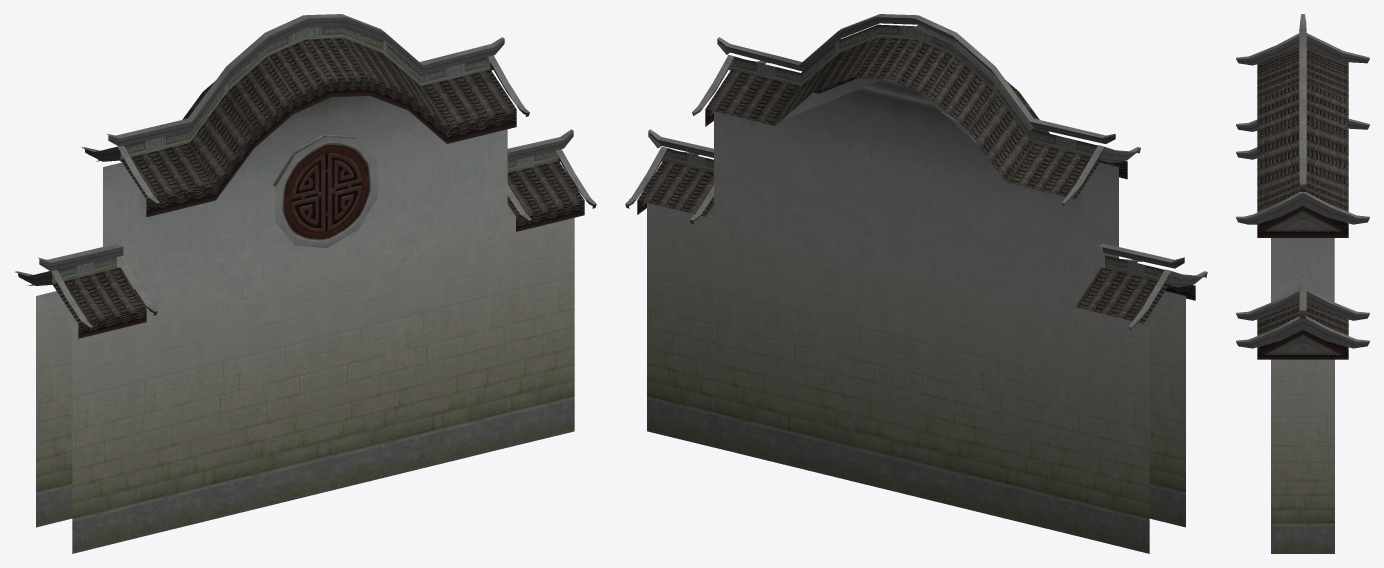
File: zc_suzhou_zhujian09.FBX
3 views of the same model, side by side, from view 1: azimuth 30°, elevation 25°; view 2: azimuth 150°, elevation 25°; view 3: azimuth 270°, elevation 25° (orthographic). The views are drawn at different scales.
Visible parts, largest first — view 1: zc_suzhou_zhujian09; view 2: zc_suzhou_zhujian09; view 3: zc_suzhou_zhujian09.
Boxes of the visible parts, box(x1,y1,x2,y2) form: zc_suzhou_zhujian09: box(15, 14, 596, 553); zc_suzhou_zhujian09: box(625, 14, 1207, 553); zc_suzhou_zhujian09: box(1236, 14, 1369, 553).
Bounding box in the file's own units: 1281 × 1060 × 315.
Materials: 1 (1 with a texture image).
